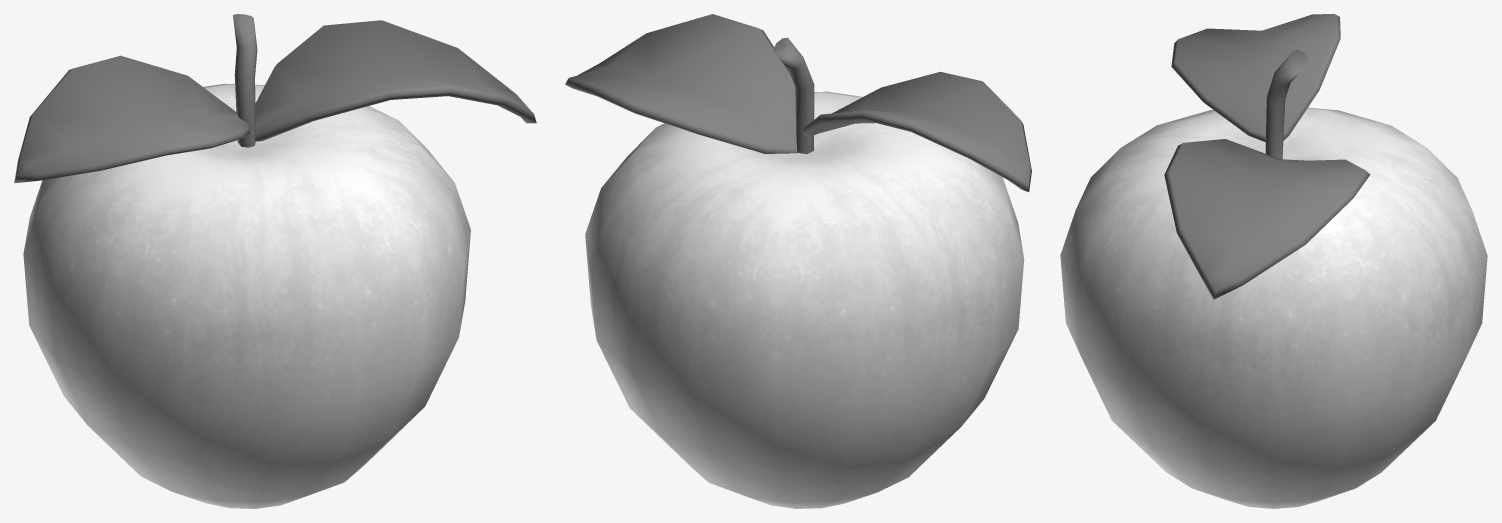
Rendered from Apple_02_Whole.fbx.
3 views of the same model, side by side, from view 1: azimuth 30°, elevation 25°; view 2: azimuth 150°, elevation 25°; view 3: azimuth 270°, elevation 25° (orthographic). The views are drawn at different scales.
Parts seen in each view (by area): view 1: Apple_02_Whole, Plane001, Plane002, Object001; view 2: Apple_02_Whole, Plane002, Plane001, Object001; view 3: Apple_02_Whole, Plane002, Plane001, Object001.
Boxes of the visible parts, bbox=[...] form: Apple_02_Whole: bbox=[23, 83, 470, 508]; Plane001: bbox=[14, 55, 250, 183]; Plane002: bbox=[255, 20, 536, 141]; Object001: bbox=[233, 14, 257, 147]; Apple_02_Whole: bbox=[585, 91, 1024, 508]; Plane002: bbox=[565, 14, 797, 153]; Plane001: bbox=[802, 71, 1031, 191]; Object001: bbox=[773, 37, 814, 154]; Apple_02_Whole: bbox=[1060, 107, 1487, 508]; Plane002: bbox=[1164, 139, 1370, 299]; Plane001: bbox=[1171, 14, 1340, 142]; Object001: bbox=[1265, 49, 1308, 158].
Size of the model in its own units: 46.66 by 42.93 by 37.23.
